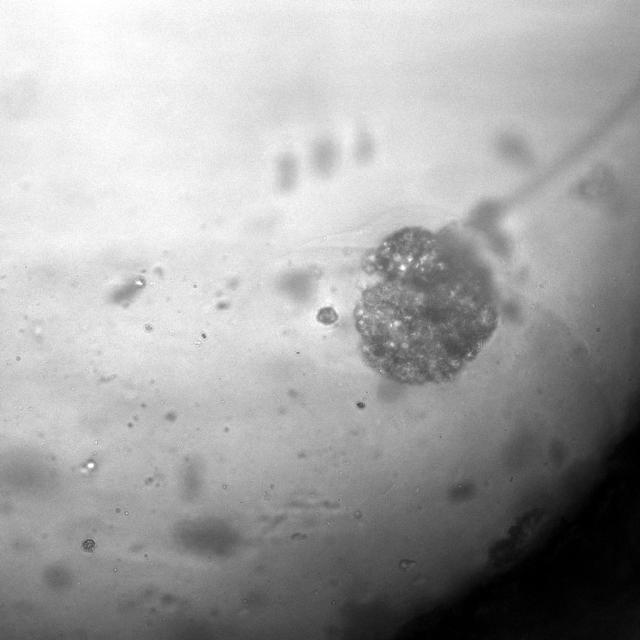organoid: (353, 226, 498, 384), (317, 307, 338, 324)
